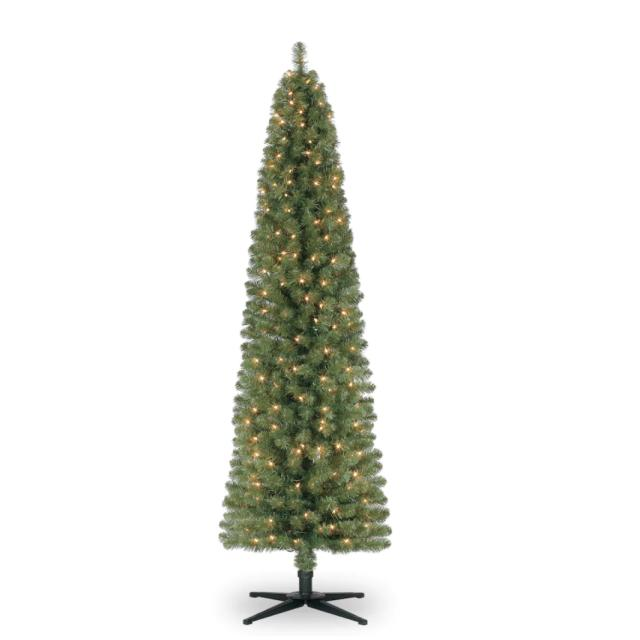Christmas-tree: (197, 39, 457, 565)
